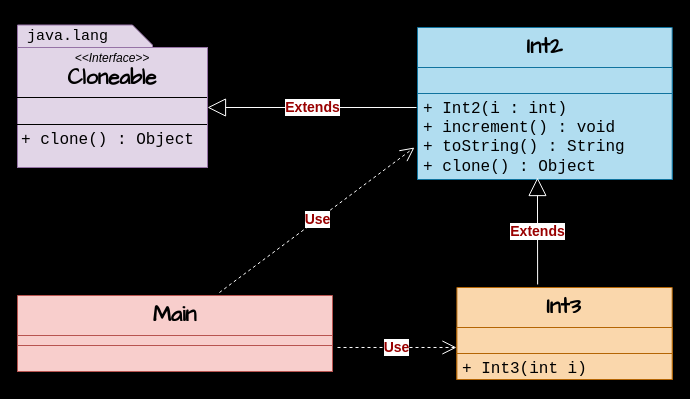
This 690x399 diagram has some shape labels left out. Each missing label, with the box of its shape:
+ main(args : String[]) : void: (16, 344, 332, 372)
- i : int: (416, 66, 672, 94)
- j : int: (456, 326, 672, 354)
